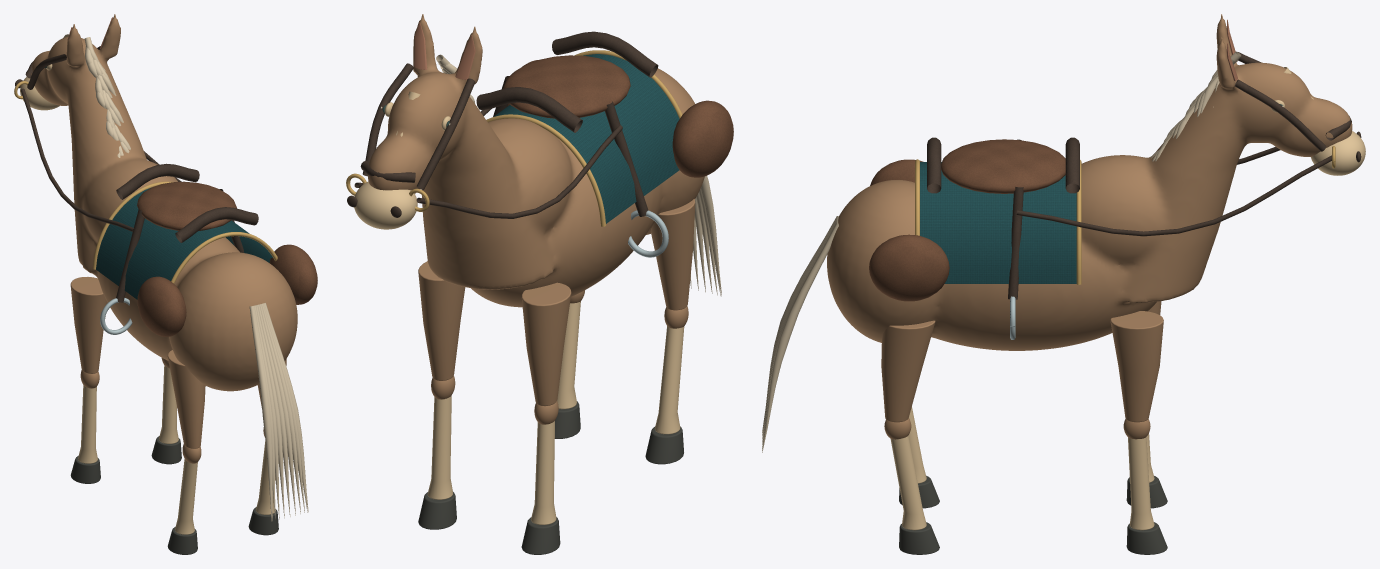
The model's file is horse.glb.
3 views of the same model, side by side, from view 1: azimuth 30°, elevation 25°; view 2: azimuth 150°, elevation 25°; view 3: azimuth 270°, elevation 25° (orthographic). The views are drawn at different scales.
Parts seen in each view (by area): view 1: HorseRig_horse, HorseRig_mane, HorseRig_leather_light, HorseRig_teal_cloth, HorseRig_leather, Leg-1-0.52_horse, Leg-10.58_horse, HorseRig_gold, Leg-1-0.52_horse_light, Leg-10.58_horse_light, Leg1-0.52_horse_light, Leg10.58_horse_light (+6 smaller); view 2: HorseRig_horse, HorseRig_teal_cloth, HorseRig_leather_light, HorseRig_leather, Leg-1-0.52_horse, Leg1-0.52_horse, Leg-10.58_horse, HorseRig_horse_light, HorseRig_mane, Leg-10.58_horse_light, Leg1-0.52_horse_light, Leg-1-0.52_horse_light (+8 smaller); view 3: HorseRig_horse, HorseRig_teal_cloth, HorseRig_leather_light, HorseRig_leather, Leg1-0.52_horse, Leg10.58_horse, HorseRig_mane, Leg10.58_horse_light, Leg1-0.52_horse_light, HorseRig_horse_light, HorseRig_gold, Leg10.58_hoof (+1 smaller).
Part boxes in pixels (left/top/right/bottom): HorseRig_horse: left=31, top=14, right=297, bottom=391; HorseRig_mane: left=84, top=37, right=308, bottom=521; HorseRig_leather_light: left=137, top=181, right=317, bottom=336; HorseRig_teal_cloth: left=96, top=187, right=272, bottom=299; HorseRig_leather: left=15, top=46, right=258, bottom=302; Leg-1-0.52_horse: left=70, top=277, right=107, bottom=388; Leg-10.58_horse: left=167, top=350, right=205, bottom=463; HorseRig_gold: left=14, top=81, right=277, bottom=283; Leg-1-0.52_horse_light: left=78, top=385, right=97, bottom=463; Leg-10.58_horse_light: left=175, top=459, right=197, bottom=534; Leg1-0.52_horse_light: left=159, top=365, right=178, bottom=443; Leg10.58_horse_light: left=256, top=441, right=275, bottom=514; HorseRig_horse: left=367, top=14, right=704, bottom=307; HorseRig_teal_cloth: left=493, top=54, right=679, bottom=223; HorseRig_leather_light: left=503, top=55, right=733, bottom=177; HorseRig_leather: left=347, top=31, right=658, bottom=218; Leg-1-0.52_horse: left=521, top=282, right=571, bottom=424; Leg1-0.52_horse: left=418, top=261, right=465, bottom=399; Leg-10.58_horse: left=650, top=199, right=695, bottom=328; HorseRig_horse_light: left=354, top=91, right=450, bottom=229; HorseRig_mane: left=436, top=54, right=721, bottom=296; Leg-10.58_horse_light: left=655, top=326, right=684, bottom=434; Leg1-0.52_horse_light: left=427, top=396, right=452, bottom=499; Leg-1-0.52_horse_light: left=531, top=421, right=556, bottom=524; HorseRig_horse: left=827, top=14, right=1352, bottom=350; HorseRig_teal_cloth: left=920, top=162, right=1076, bottom=283; HorseRig_leather_light: left=869, top=139, right=1065, bottom=301; HorseRig_leather: left=927, top=52, right=1361, bottom=299; Leg1-0.52_horse: left=1110, top=311, right=1163, bottom=439; Leg10.58_horse: left=881, top=320, right=935, bottom=439; HorseRig_mane: left=762, top=51, right=1241, bottom=452; Leg10.58_horse_light: left=890, top=435, right=926, bottom=530; Leg1-0.52_horse_light: left=1128, top=437, right=1154, bottom=530; HorseRig_horse_light: left=1271, top=67, right=1365, bottom=175; HorseRig_gold: left=915, top=146, right=1335, bottom=284; Leg10.58_hoof: left=899, top=522, right=939, bottom=554.
Size of the model in its own units: 1.09 by 2.66 by 2.92.
Materials: 12 (3 with a texture image).
